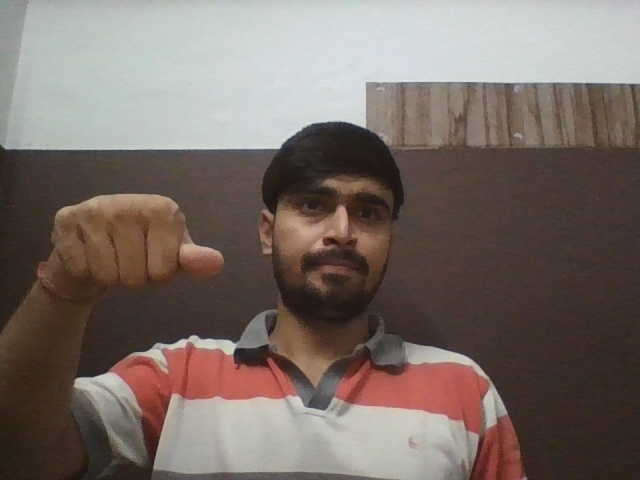Yes: (49, 190, 227, 291)
